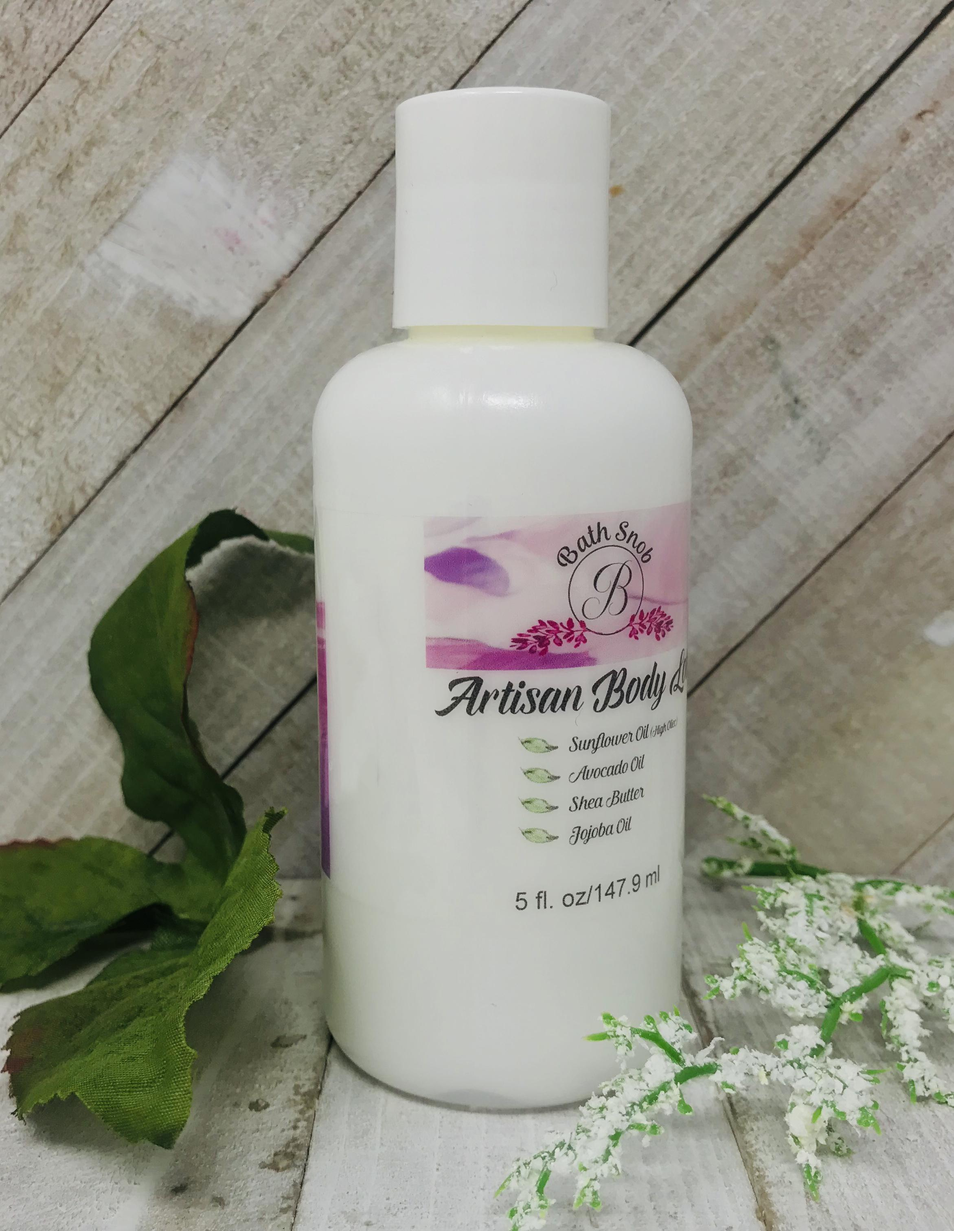plastic: (309, 88, 694, 1118)
